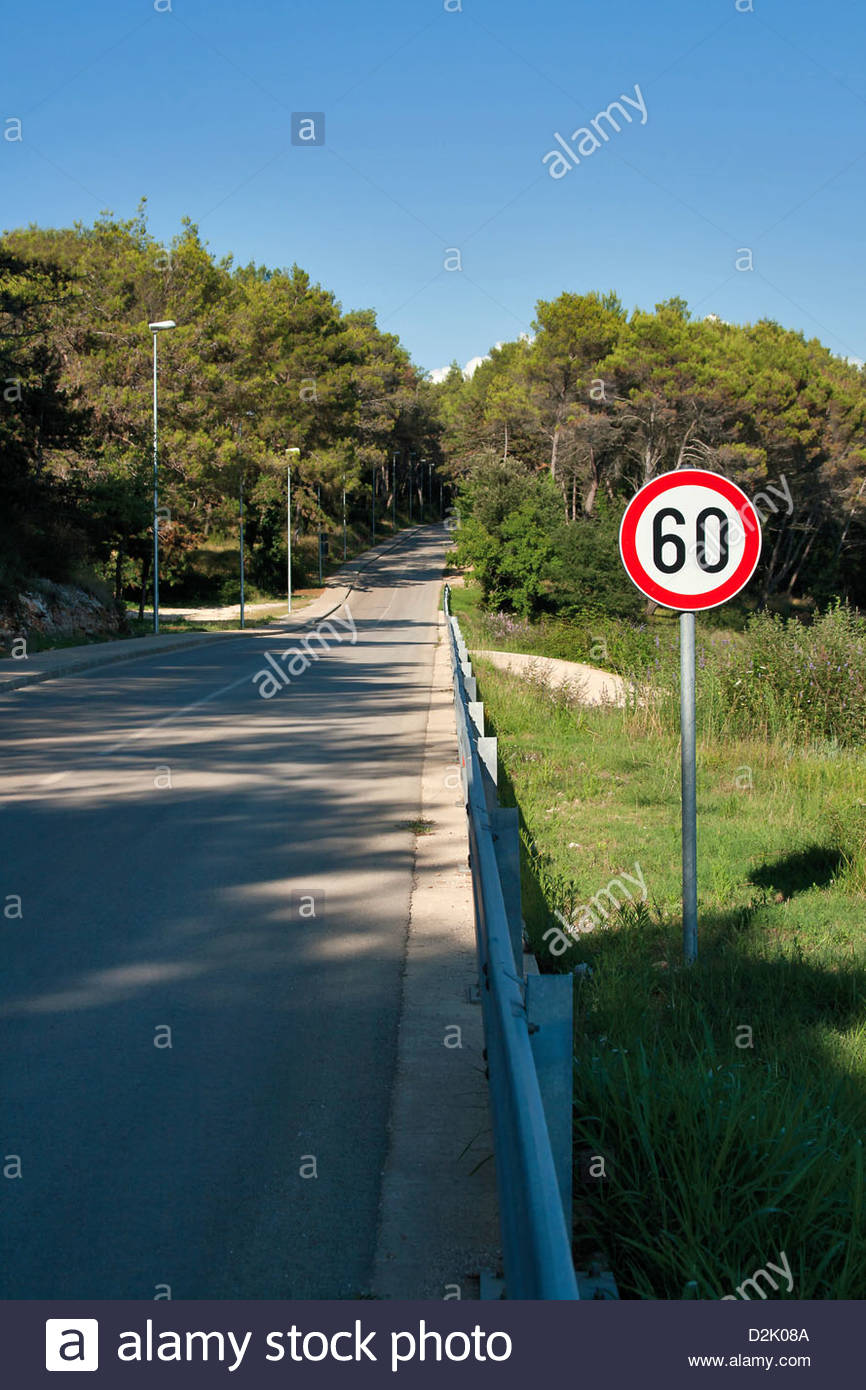speed_limit_60: (618, 466, 763, 604)
